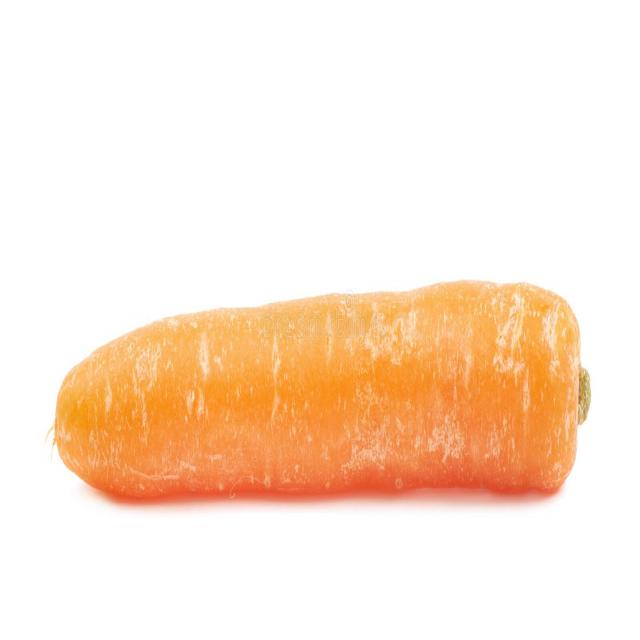carrot: (52, 281, 592, 506)
